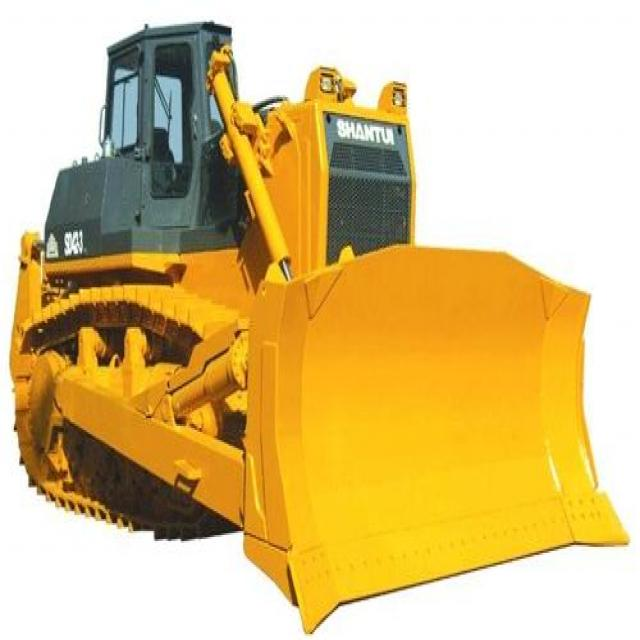Bulldozer: (5, 14, 639, 622)
